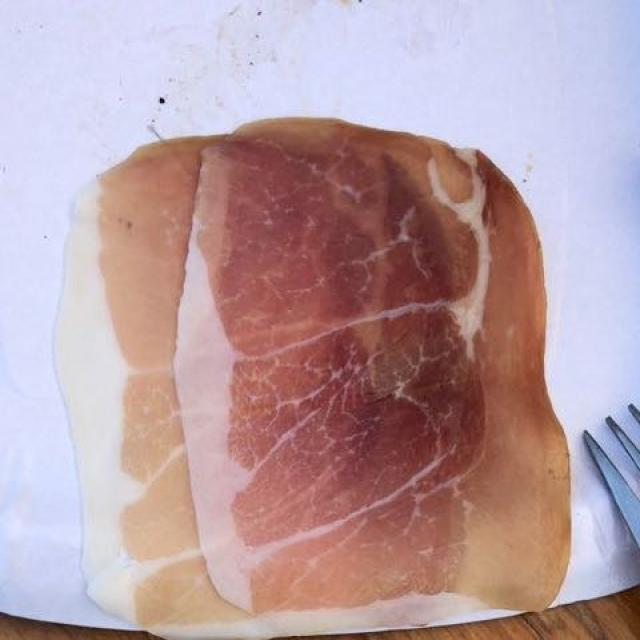ham: (77, 120, 563, 621)
